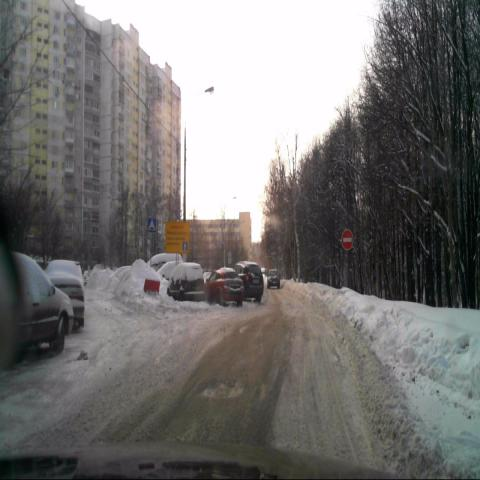3_1: (341, 228, 354, 252)
